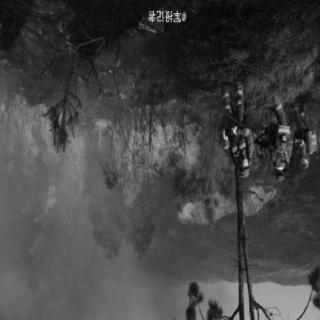Fire: (2, 96, 80, 252), (90, 113, 206, 215)
